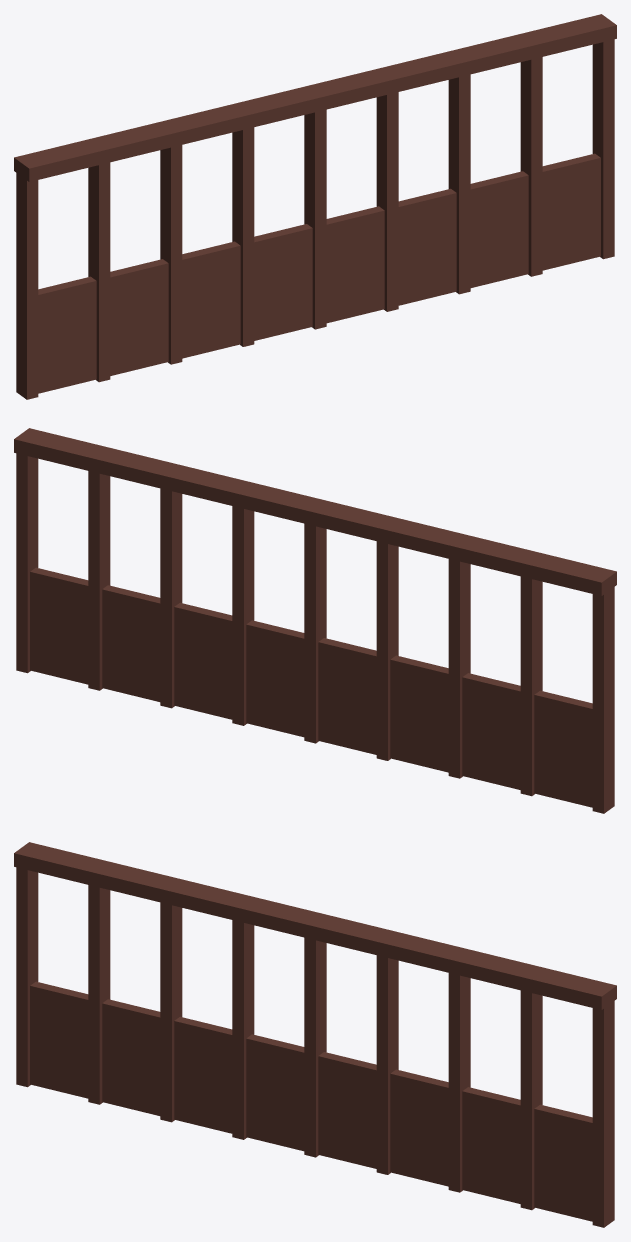
Rendered from Partitions_001.glb.
3 renders of one model, top to bottom at view 1: azimuth 30°, elevation 25°; view 2: azimuth 150°, elevation 25°; view 3: azimuth 330°, elevation 25°, orthographic.
Parts seen in each view (by area): view 1: Partitions_001; view 2: Partitions_001; view 3: Partitions_001.
Part boxes in pixels (left/top/right/bottom): Partitions_001: left=14, top=14, right=616, bottom=399; Partitions_001: left=14, top=428, right=616, bottom=813; Partitions_001: left=14, top=842, right=616, bottom=1227.
Size of the model in its own units: 2 by 0.7574 by 0.0898.
Materials: 1 (1 with a texture image).
